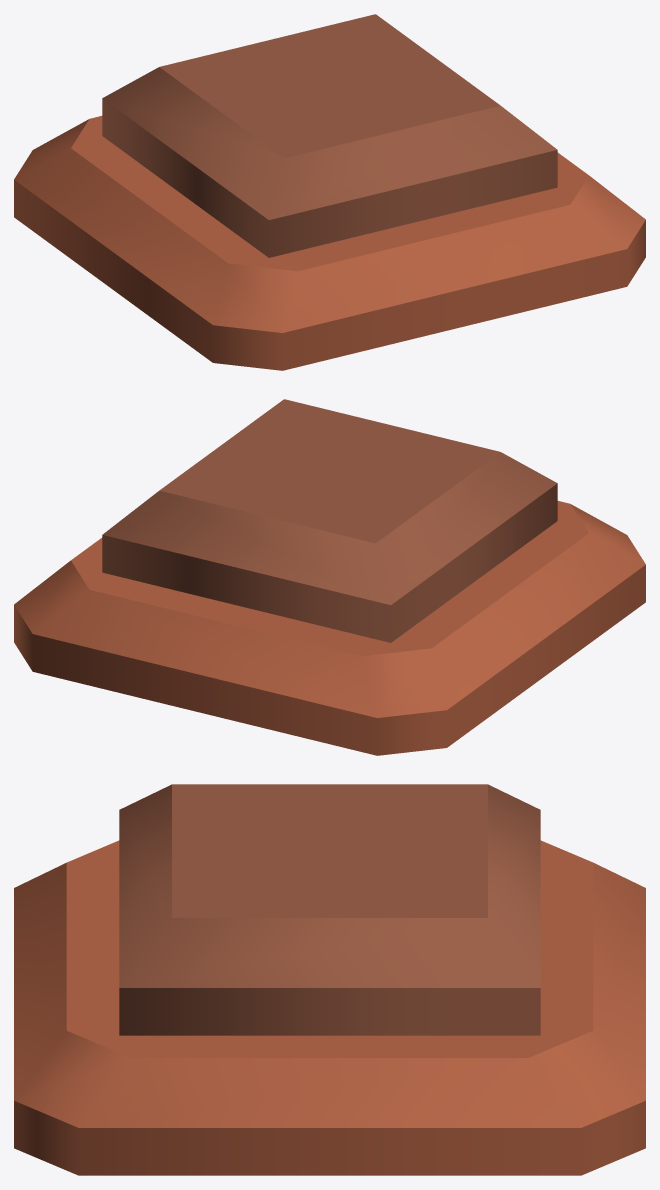
The model's file is button.fbx.
3 views of the same model, one above another, from view 1: azimuth 30°, elevation 25°; view 2: azimuth 150°, elevation 25°; view 3: azimuth 270°, elevation 25° (orthographic). The views are drawn at different scales.
Visible parts, largest first — view 1: button-square, button; view 2: button-square, button; view 3: button-square, button.
Part boxes in pixels (bbox=[...]): button-square: bbox=[14, 116, 645, 370]; button: bbox=[102, 14, 557, 257]; button-square: bbox=[14, 501, 645, 755]; button: bbox=[102, 399, 557, 642]; button-square: bbox=[14, 840, 645, 1175]; button: bbox=[119, 784, 540, 1035].
Size of the model in its own units: 60 by 20 by 60.
